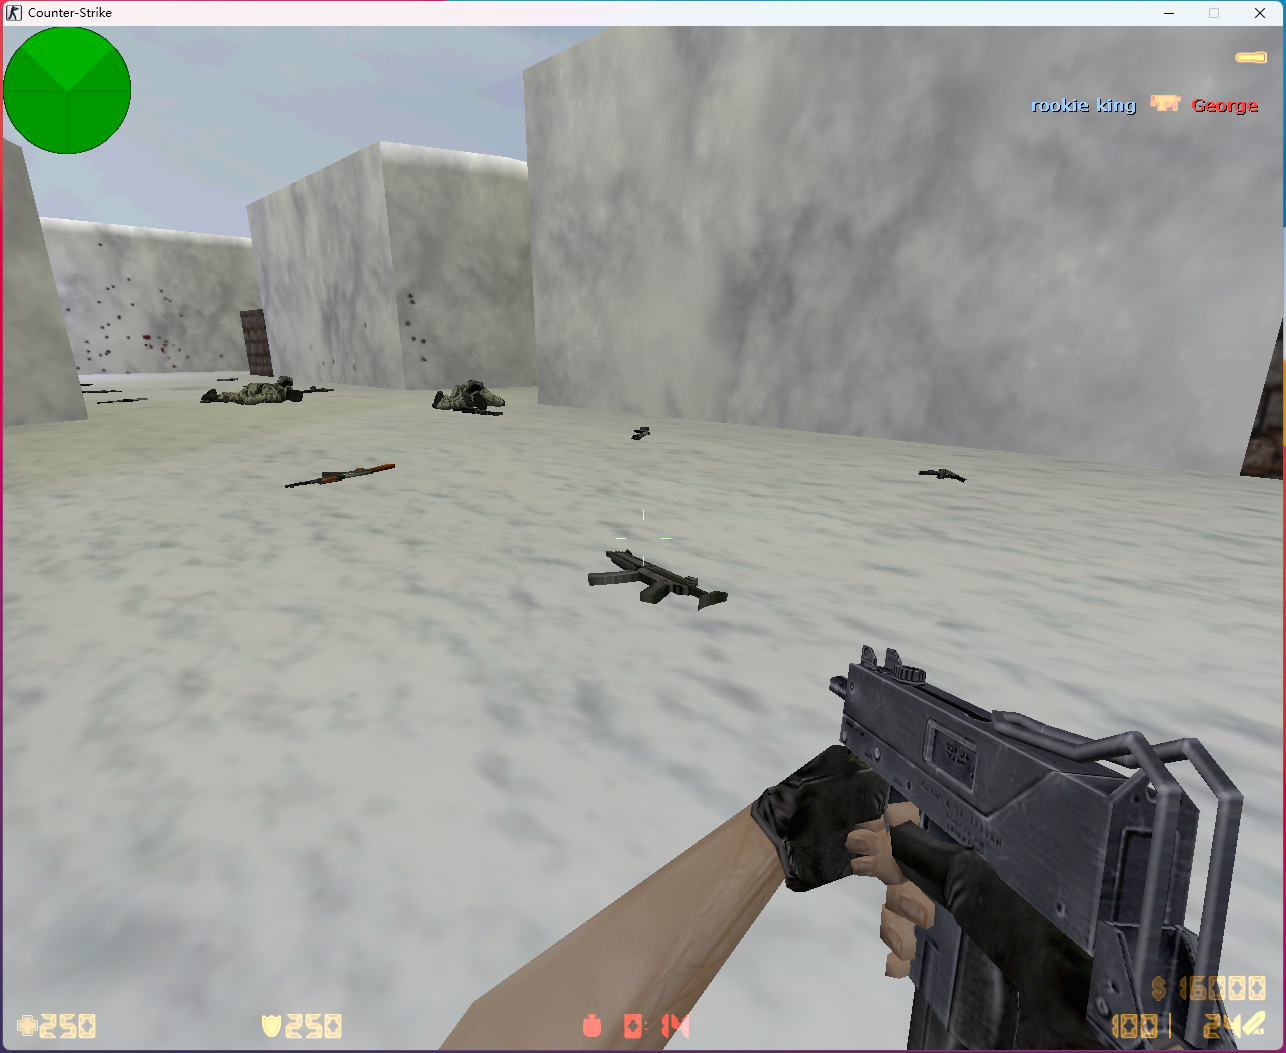dead: (428, 381, 505, 415), (199, 382, 302, 405)
weapon: (584, 543, 733, 610), (282, 462, 392, 489), (920, 466, 966, 483), (94, 398, 151, 407), (629, 423, 650, 442), (295, 387, 330, 396), (74, 389, 119, 394)
